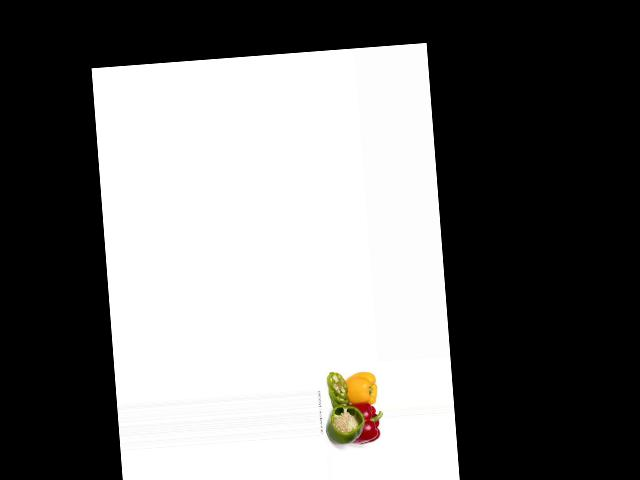bell_pepper: (327, 403, 367, 449)
